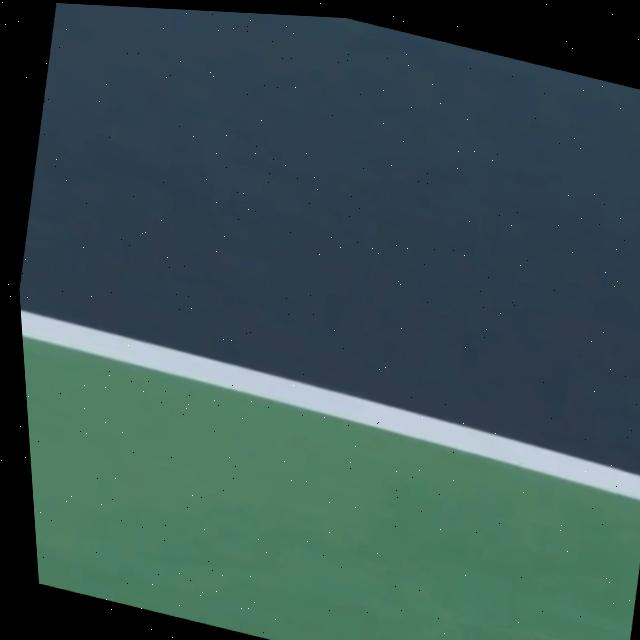right: (21, 309, 640, 499)
